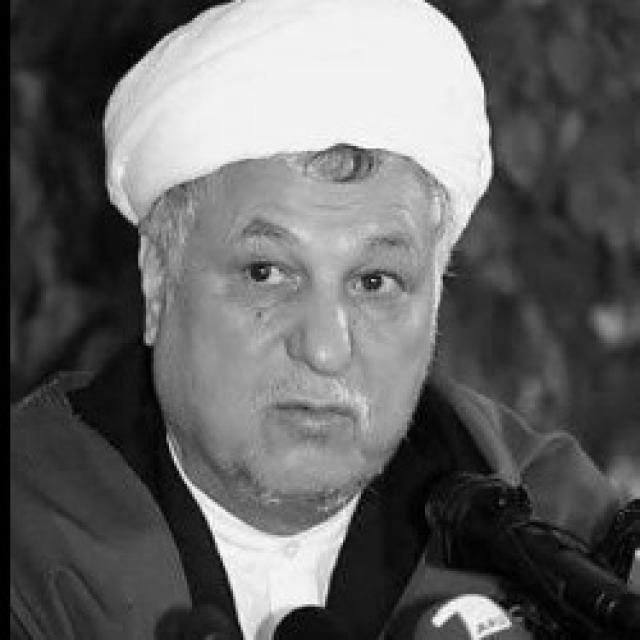real: (151, 144, 447, 518), (221, 235, 416, 313)
